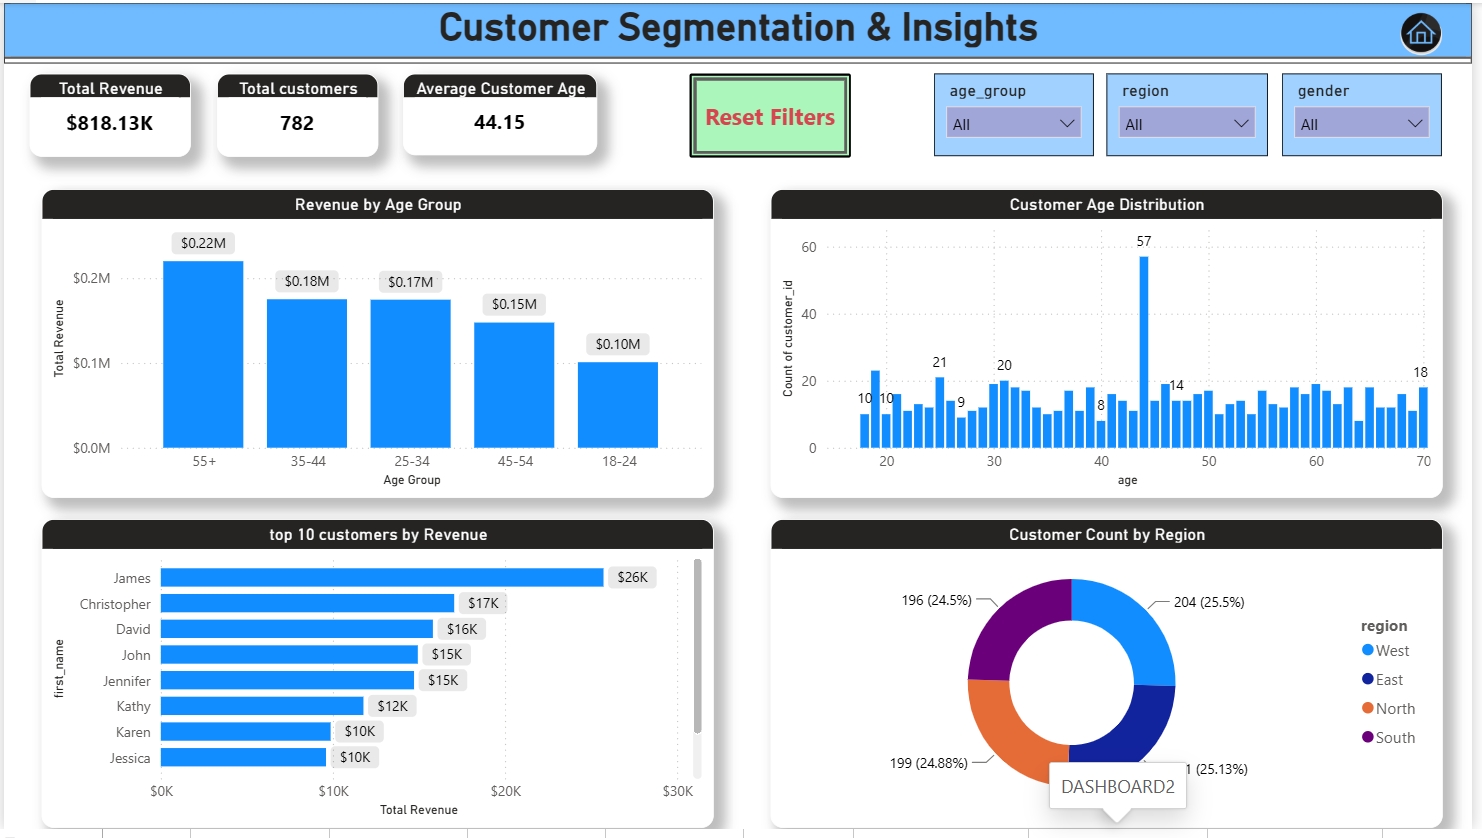

This screenshot's page, from the dashboard's own definition file:
{"tool":"powerbi","page":{"name":"DASHBOARD2","canvas":[1280,720],"ordinal":7},"visuals":[{"type":"textbox","title":"Customer Segmentation & Insights ","box":[0,0,1279.6,52.8],"z":0},{"type":"cardVisual","title":"Total Revenue","fields":{"Data":["DateTable.Total Revenue"]},"box":[22.7,62.1,140.8,72.7],"z":1000},{"type":"cardVisual","title":"Total customers","fields":{"Data":["DateTable.Total Customers"]},"box":[186.2,62.1,140.8,72.7],"z":2000},{"type":"slicer","fields":{"Values":["cleaned_customers.region"]},"box":[961.5,62.1,140.8,72],"z":3000},{"type":"slicer","fields":{"Values":["cleaned_customers.age_group"]},"box":[810.1,62.1,139.3,72],"z":4000},{"type":"slicer","fields":{"Values":["cleaned_customers.gender"]},"box":[1114.5,62.1,139.3,72],"z":5000},{"type":"clusteredColumnChart","title":"Revenue by Age Group","fields":{"Category":["cleaned_customers.Age Group"],"Y":["DateTable.Total Revenue"]},"box":[33.3,162,586,269.5],"z":6000},{"type":"clusteredColumnChart","title":"Customer Age Distribution","fields":{"Category":["cleaned_customers.age"],"Y":["CountNonNull(cleaned_customers.customer_id)"]},"box":[667.8,162,586,269.5],"z":7000},{"type":"barChart","title":"top 10 customers by Revenue","fields":{"Y":["DateTable.Total Revenue"],"Category":["cleaned_customers.first_name"]},"box":[33.3,449.7,586,269.5],"z":8000},{"type":"donutChart","title":"Customer Count by Region","fields":{"Y":["Count(cleaned_customers.customer_id)"],"Category":["cleaned_customers.region"]},"box":[667.8,449.7,586,269.5],"z":9000},{"type":"cardVisual","title":"Average Customer Age","fields":{"Data":["DateTable.Average Customer Age"]},"box":[348.3,62.1,169.6,71.2],"z":10000},{"type":"actionButton","title":"Reset Filters","box":[597,61.6,140.6,73.2],"z":11000},{"type":"image","box":[1203.4,1.4,64.7,49.6],"z":12000}]}

Visuals, with their boxes in screenshot pixels (x1, y1, x2, y2), scaled from the page's 1280x720 canvas onto the 1482x838 screenshot:
"Customer Segmentation & Insights " textbox: bbox(0, 0, 1481, 61)
"Total Revenue" cardVisual: bbox(26, 72, 189, 157)
"Total customers" cardVisual: bbox(216, 72, 379, 157)
slicer - cleaned_customers.region: bbox(1113, 72, 1276, 156)
slicer - cleaned_customers.age_group: bbox(938, 72, 1099, 156)
slicer - cleaned_customers.gender: bbox(1290, 72, 1452, 156)
"Revenue by Age Group" clusteredColumnChart: bbox(39, 189, 717, 502)
"Customer Age Distribution" clusteredColumnChart: bbox(773, 189, 1452, 502)
"top 10 customers by Revenue" barChart: bbox(39, 523, 717, 837)
"Customer Count by Region" donutChart: bbox(773, 523, 1452, 837)
"Average Customer Age" cardVisual: bbox(403, 72, 600, 155)
"Reset Filters" actionButton: bbox(691, 72, 854, 157)
image: bbox(1393, 2, 1468, 59)
